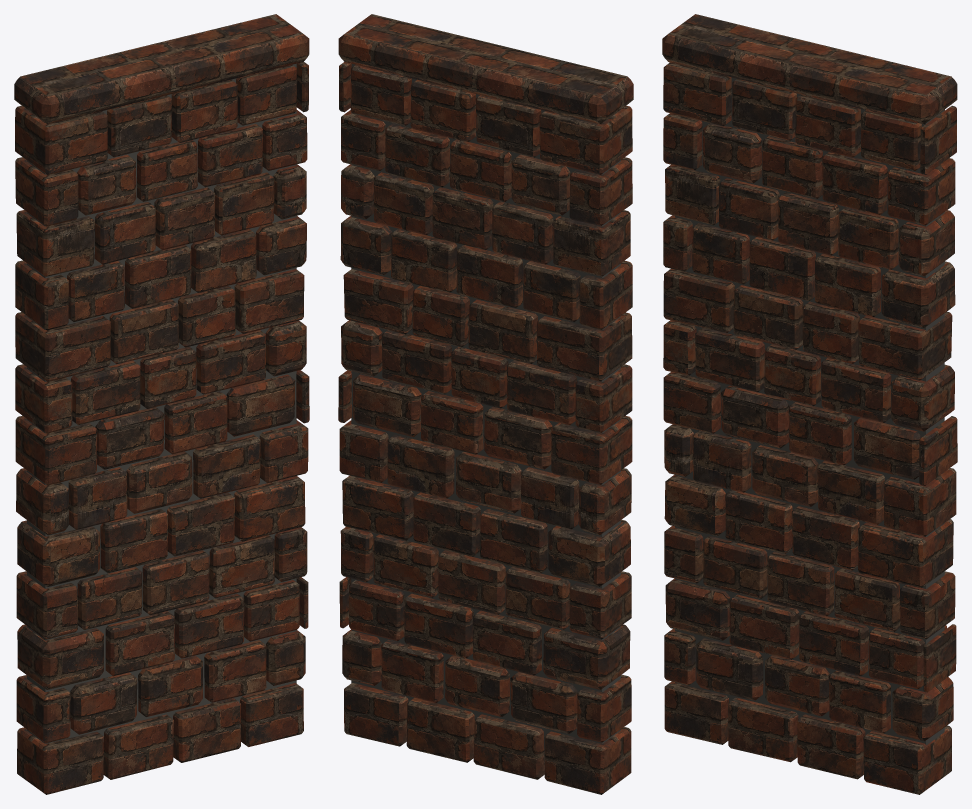
Rendered from wall_brick_b.glb.
The picture shows the model from 3 angles, left to right: view 1: azimuth 30°, elevation 25°; view 2: azimuth 150°, elevation 25°; view 3: azimuth 330°, elevation 25°; orthographic projection.
Parts seen in each view (by area): view 1: wall_brick_b; view 2: wall_brick_b; view 3: wall_brick_b.
Part boxes in pixels (x1,y1,x2,y2): wall_brick_b: (14,14,309,794); wall_brick_b: (338,14,633,794); wall_brick_b: (662,14,957,794).
Bounding box in the file's own units: 1 × 2.49 × 0.22.
Materials: 4 (3 with a texture image).
